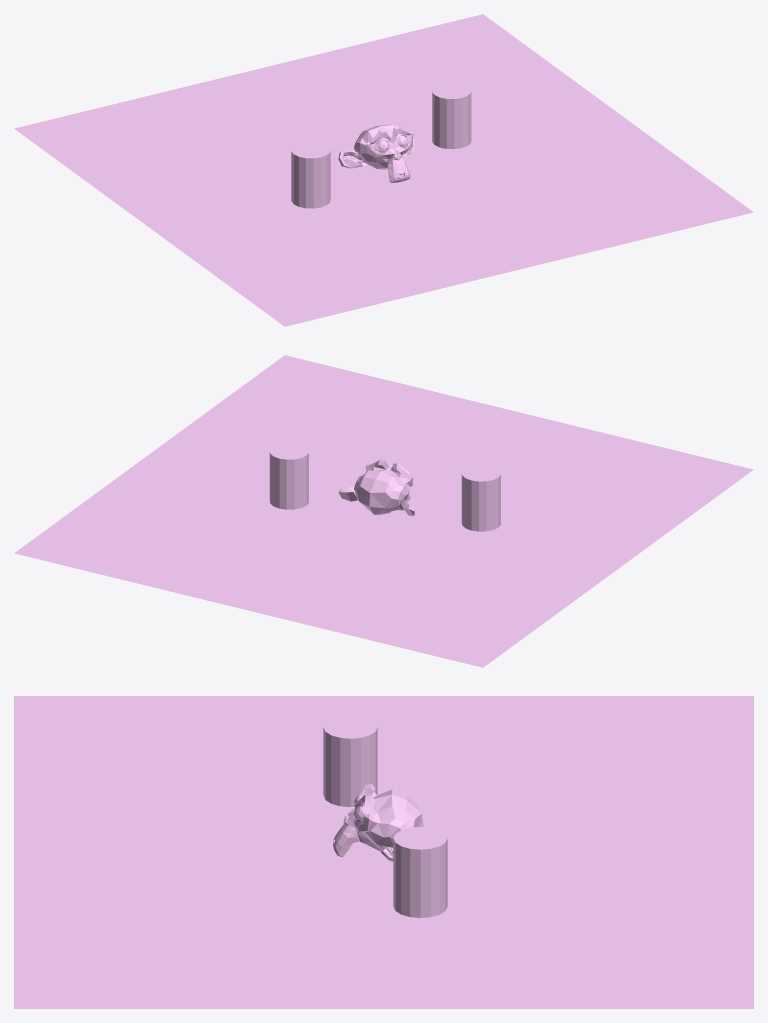
File: Suzanne.dae
The picture shows the model from 3 angles, top to bottom: view 1: azimuth 30°, elevation 25°; view 2: azimuth 150°, elevation 25°; view 3: azimuth 270°, elevation 25°; orthographic projection. The views are drawn at different scales.
Parts seen in each view (by area): view 1: Suzanne; view 2: Suzanne; view 3: Suzanne.
Part boxes in pixels (box(x1,y1,x2,y2)): Suzanne: box(14, 14, 753, 326); Suzanne: box(14, 355, 753, 667); Suzanne: box(14, 696, 753, 1008).
Size of the model in its own units: 33.88 by 33.88 by 4.
